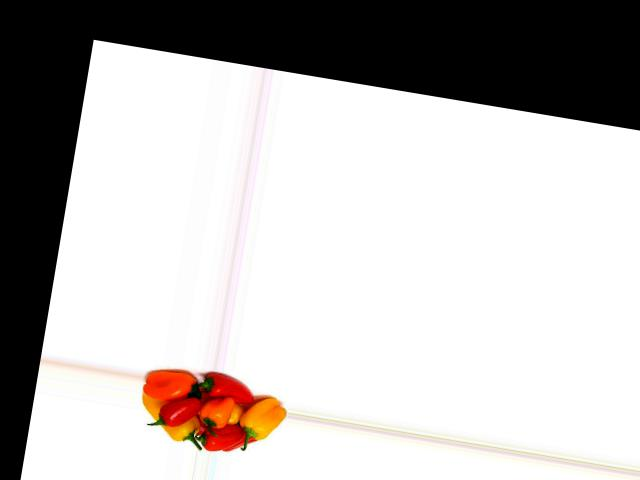bell_pepper: (136, 394, 203, 447)
